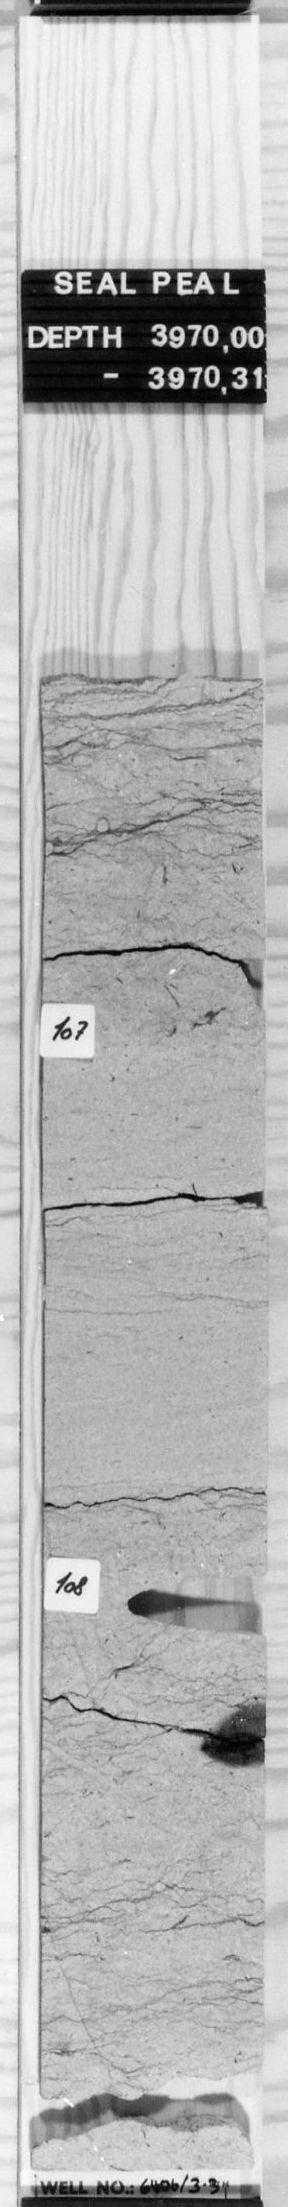hplug: (117, 1557, 266, 1643)
